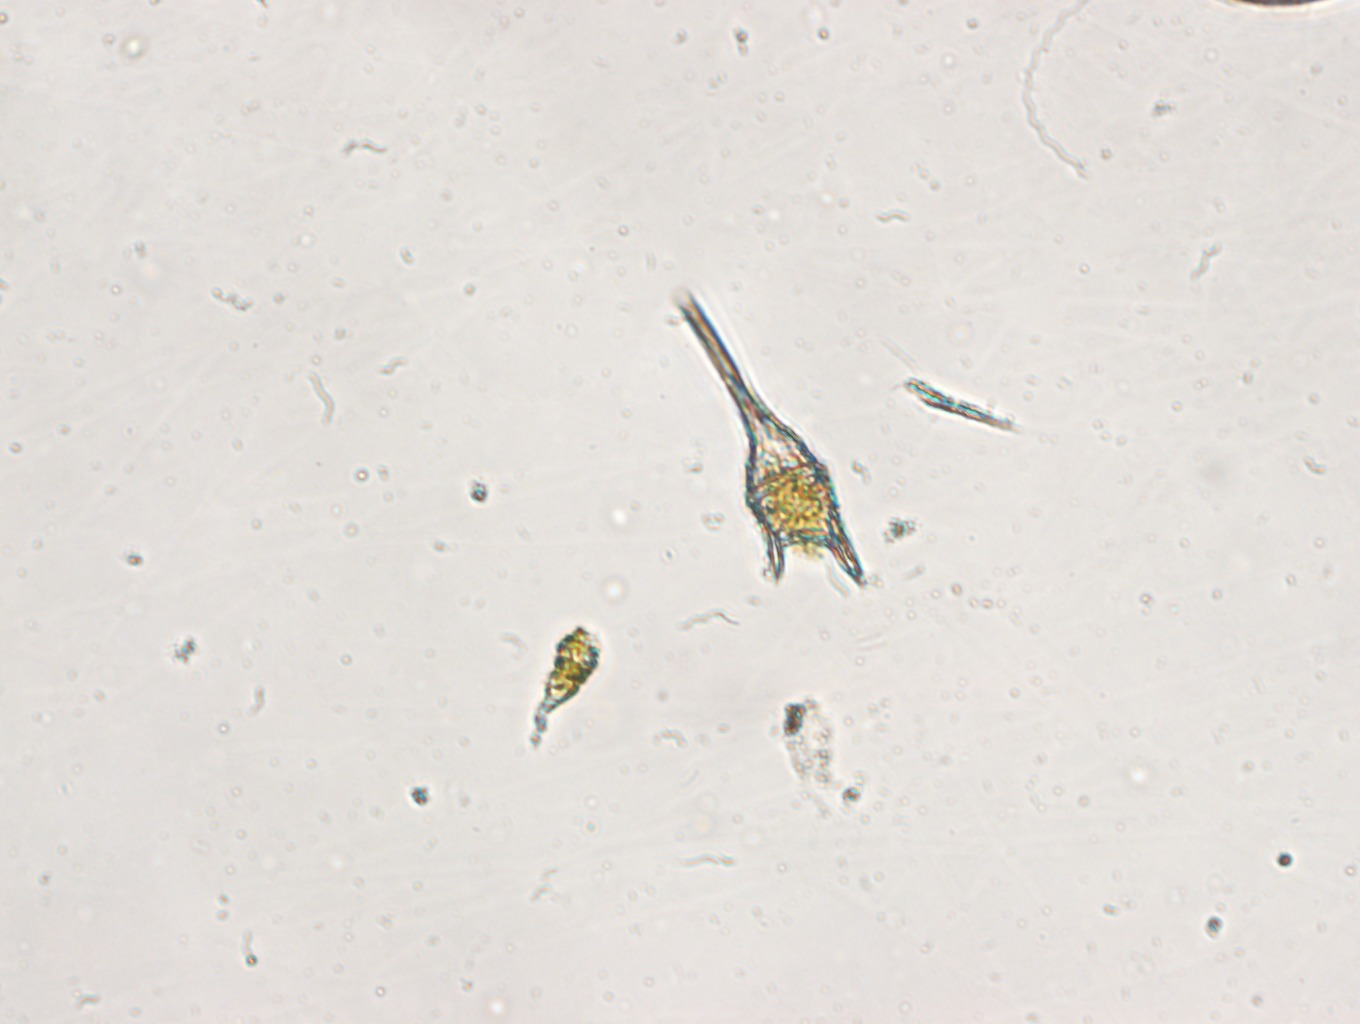ceratium furca: (665, 283, 868, 591)
